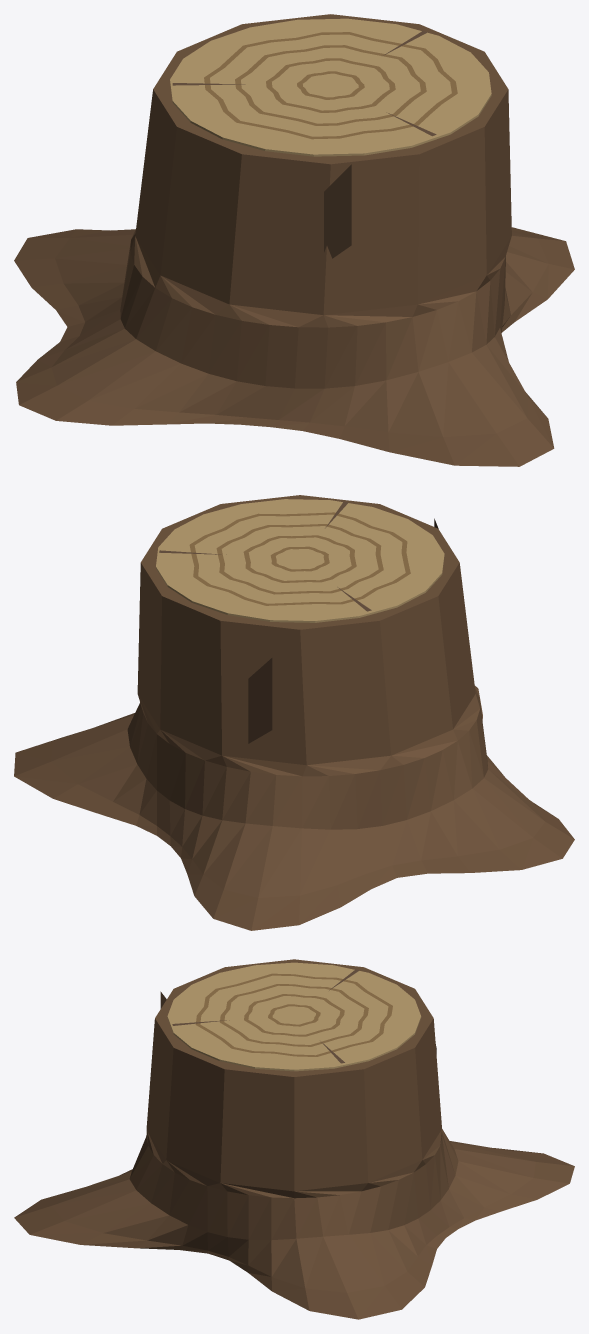
Rendered from oak_stump.glb.
3 views of the same model, one above another, from view 1: azimuth 30°, elevation 25°; view 2: azimuth 150°, elevation 25°; view 3: azimuth 270°, elevation 25° (orthographic). The views are drawn at different scales.
Parts seen in each view (by area): view 1: stump, growth_rings; view 2: stump, growth_rings; view 3: stump, growth_rings.
Boxes of the visible parts, left/top/right/bottom form: stump: left=14, top=14, right=574, bottom=466; growth_rings: left=170, top=18, right=491, bottom=156; stump: left=14, top=495, right=574, bottom=930; growth_rings: left=156, top=499, right=444, bottom=622; stump: left=14, top=959, right=574, bottom=1319; growth_rings: left=167, top=962, right=421, bottom=1071.
Size of the model in its own units: 1.17 by 0.488 by 1.25.
